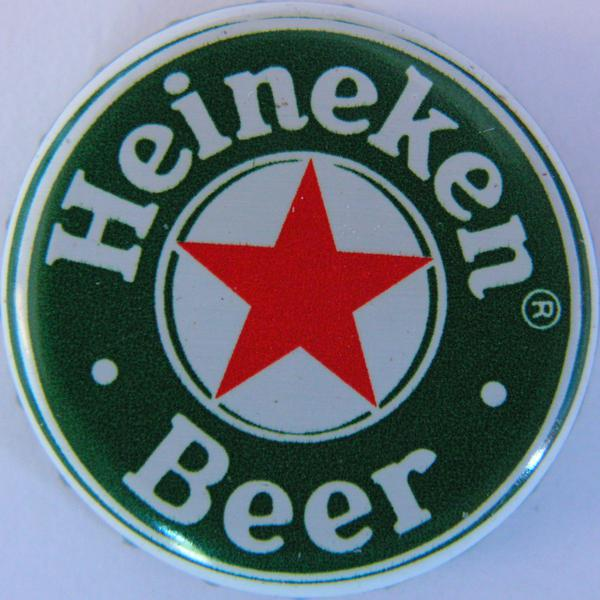heineken: (4, 1, 600, 600)
